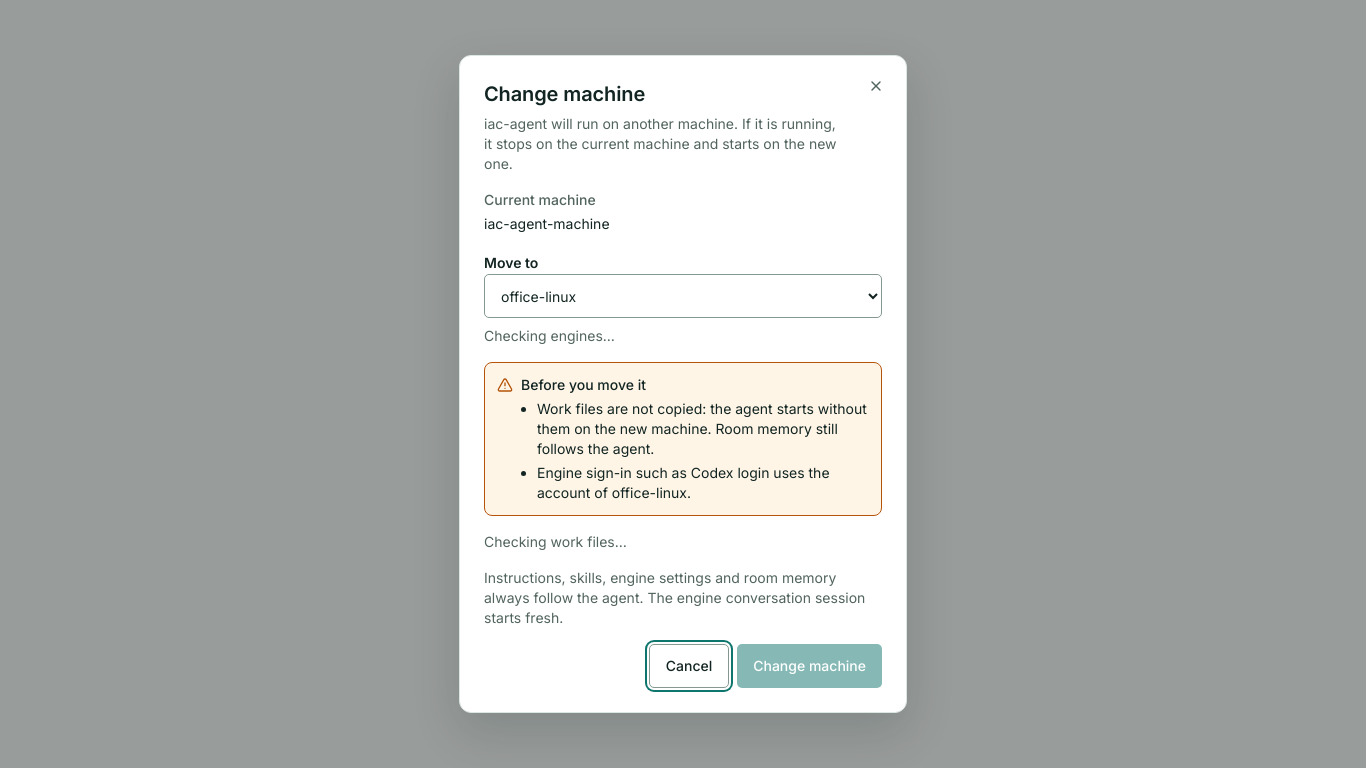
Test: MachineChangeDialog (#907) › blocks a machine that cannot run the engine [AGT-10]
The width and height of the screenshot is (1366, 768).
Select "mac-mini" in the dropdown with test id "machine-change-target". click: (683, 296)
box: [484,274,882,318]
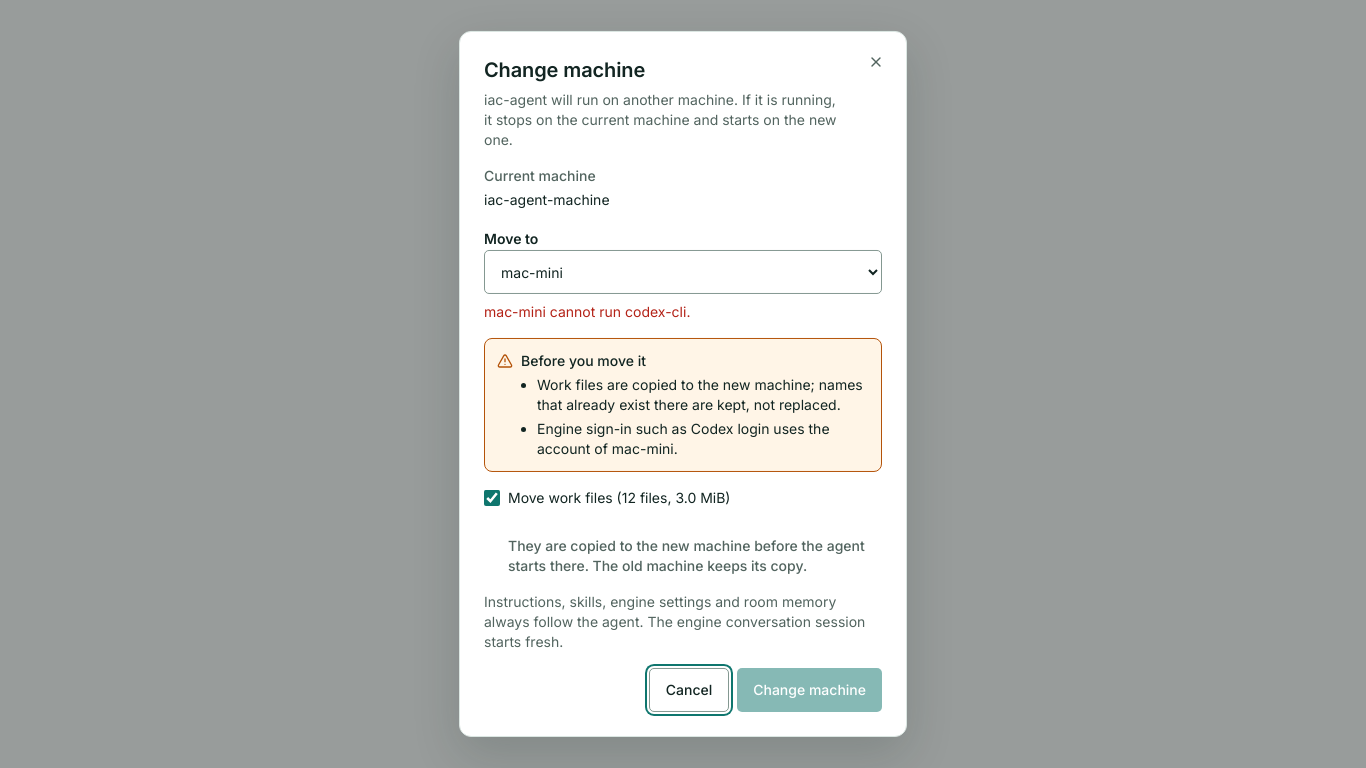
Expected: the button with test id "machine-change-submit" is disabled, [737,668,882,712]
Result: the message with test id "machine-change-engine-missing" shows "mac-mini" at [484,303,690,320]
